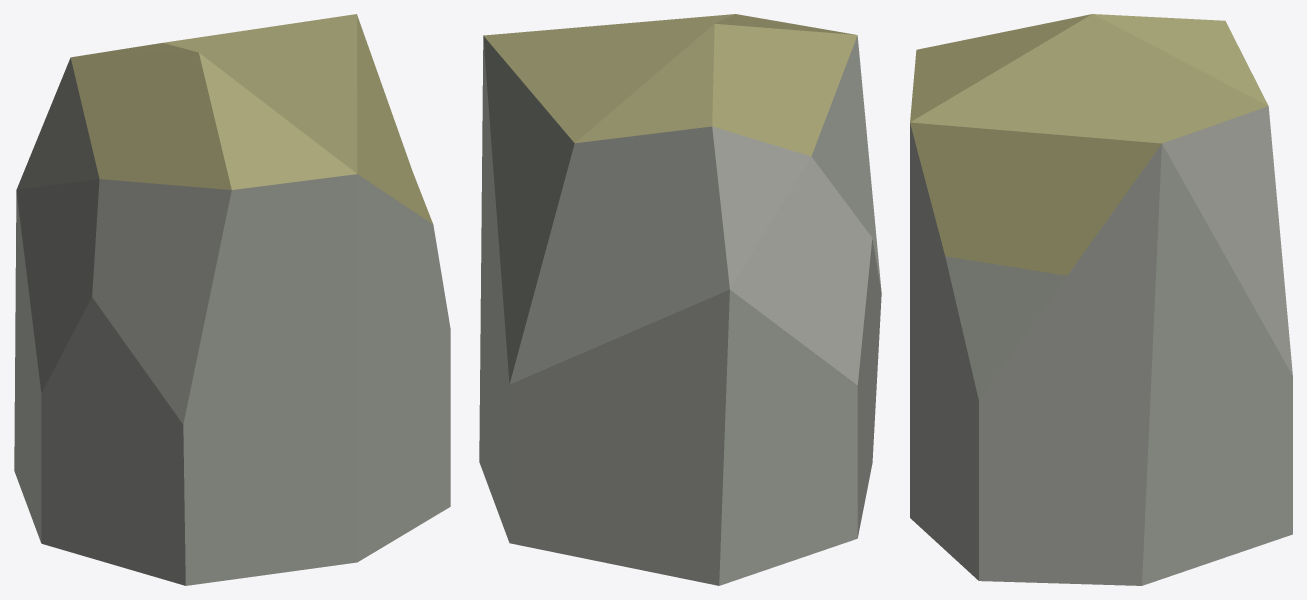
Rendered from rock2.fbx.
3 renders of one model, left to right at view 1: azimuth 30°, elevation 25°; view 2: azimuth 150°, elevation 25°; view 3: azimuth 270°, elevation 25°, orthographic. The views are drawn at different scales.
Visible parts, largest first — view 1: rock2; view 2: rock2; view 3: rock2.
Boxes of the visible parts, x1,y1,x2,y2 form: rock2: (14, 14, 450, 585); rock2: (479, 14, 881, 585); rock2: (910, 14, 1292, 585).
Bounding box in the file's own units: 5.74 × 5.27 × 7.13.
